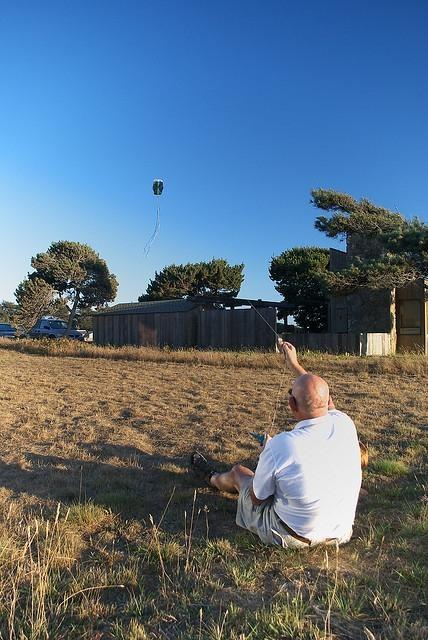car: (28, 320, 87, 340), (0, 322, 23, 340)
